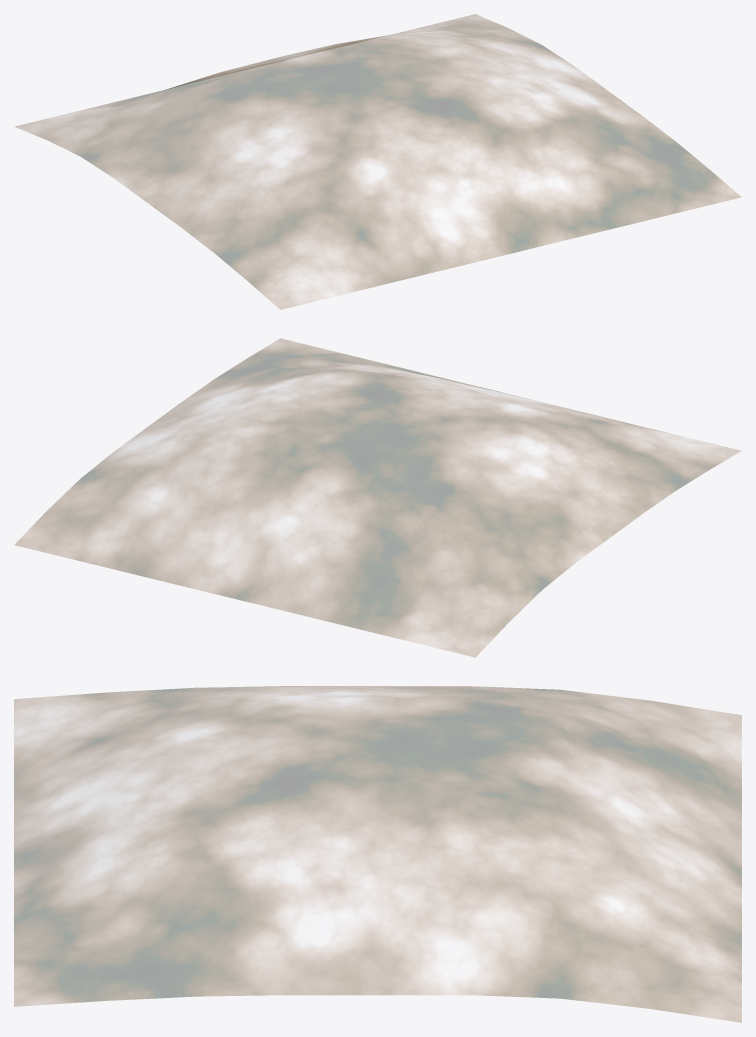
The model's file is clouds.fbx.
The picture shows the model from 3 angles, top to bottom: view 1: azimuth 30°, elevation 25°; view 2: azimuth 150°, elevation 25°; view 3: azimuth 270°, elevation 25°; orthographic projection. The views are drawn at different scales.
Parts seen in each view (by area): view 1: pPlane1; view 2: pPlane1; view 3: pPlane1.
Boxes of the visible parts, bbox=[...] form: pPlane1: bbox=[15, 14, 740, 309]; pPlane1: bbox=[15, 338, 740, 657]; pPlane1: bbox=[14, 686, 741, 1022].
Size of the model in its own units: 110 by 18.66 by 110.
1 material, 1 textured.
